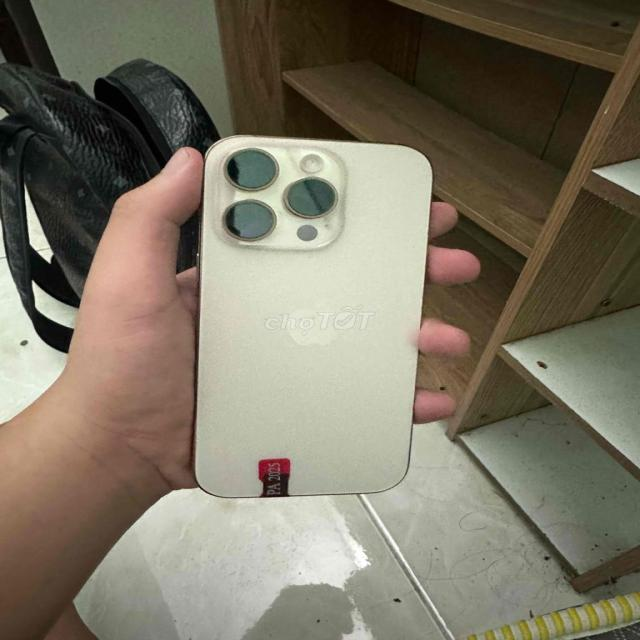gen_16: (193, 136, 432, 498)
